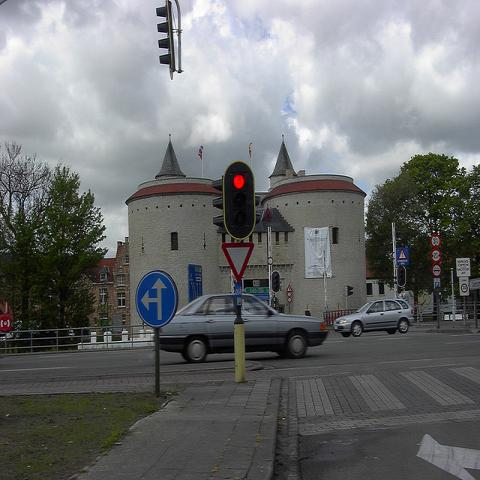car: (160, 293, 328, 364), (333, 299, 414, 339)
